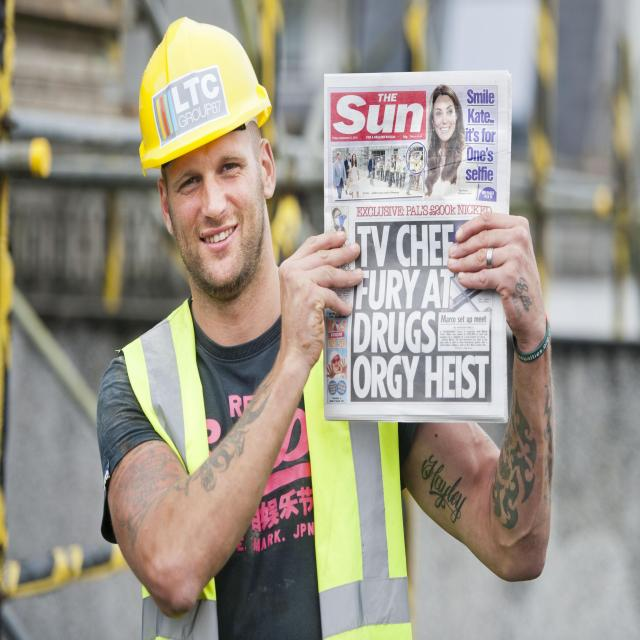hat: (138, 17, 272, 175)
